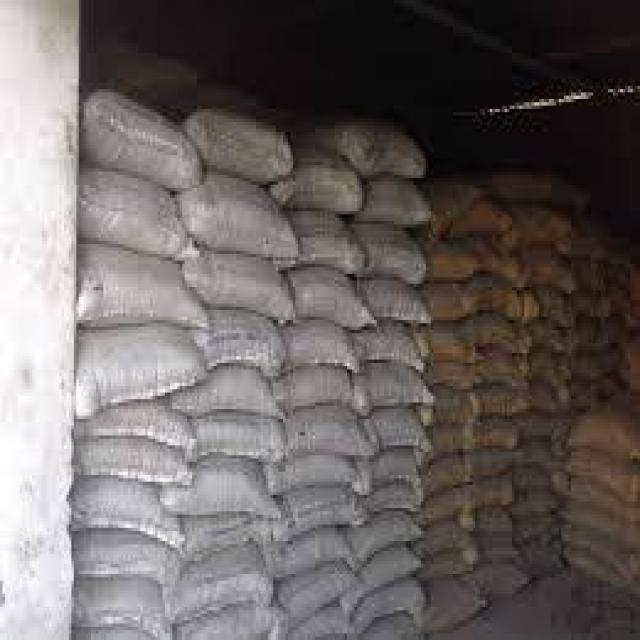gunny_bag: (74, 328, 210, 420), (88, 89, 205, 188), (76, 247, 209, 321), (82, 177, 189, 264), (192, 170, 295, 255), (170, 547, 275, 623), (76, 479, 183, 547), (203, 106, 293, 181), (170, 457, 282, 516), (342, 545, 416, 625), (273, 149, 365, 210), (197, 255, 293, 313), (76, 580, 174, 635), (78, 535, 180, 587), (185, 372, 286, 420), (80, 439, 190, 483), (197, 412, 289, 464), (291, 267, 371, 326), (87, 408, 197, 450), (202, 318, 282, 375), (284, 212, 365, 267), (356, 222, 430, 280), (271, 531, 358, 578), (566, 396, 638, 451), (354, 511, 424, 567), (279, 366, 363, 412), (358, 361, 433, 412), (290, 406, 371, 453), (358, 177, 434, 226), (284, 563, 355, 615), (569, 524, 636, 578), (273, 457, 359, 497), (570, 452, 638, 501), (504, 208, 575, 253), (290, 323, 360, 368), (363, 278, 430, 325), (426, 581, 488, 631), (431, 183, 479, 244), (371, 409, 430, 457), (569, 510, 636, 550), (417, 387, 478, 427), (417, 522, 473, 562), (468, 278, 524, 315), (483, 349, 530, 392), (475, 562, 532, 597), (420, 490, 475, 526), (422, 454, 473, 489), (429, 281, 467, 326), (475, 386, 522, 420), (533, 259, 578, 294), (469, 479, 515, 513), (427, 332, 475, 363), (530, 320, 568, 358), (469, 426, 515, 451), (514, 413, 554, 441), (515, 494, 557, 519)
